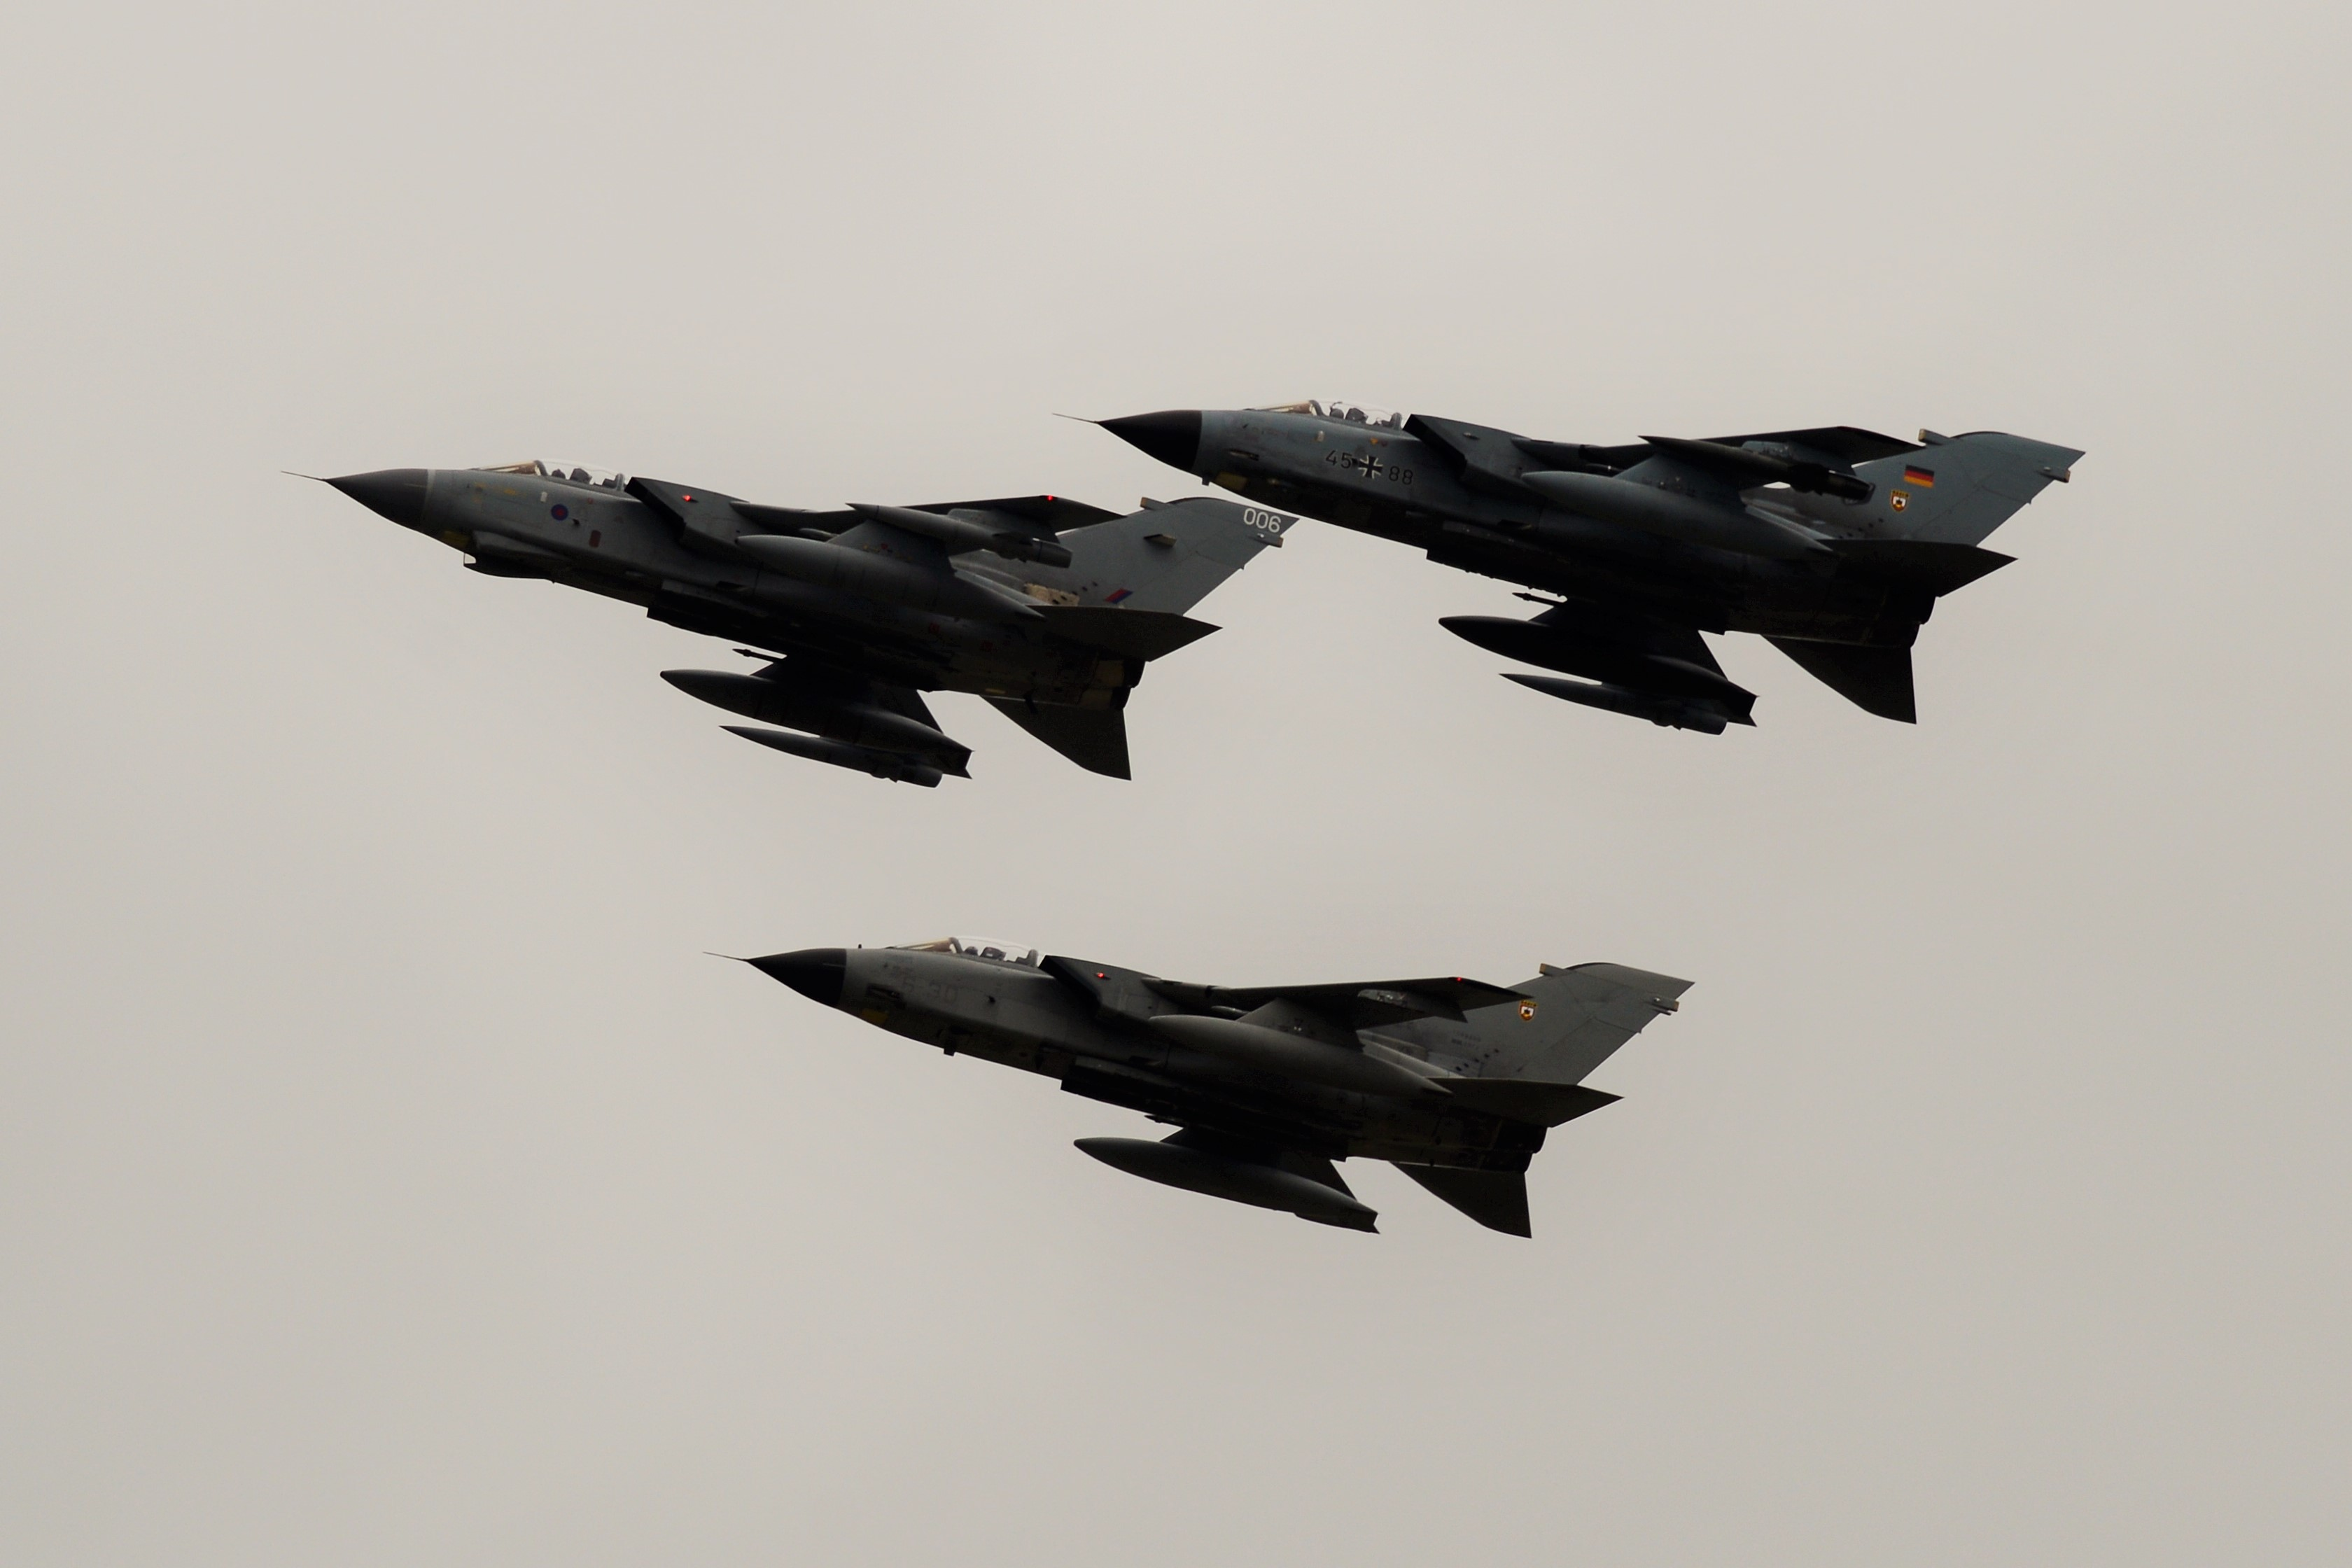Tornado: (1052, 399, 2086, 735), (280, 458, 1300, 789), (702, 936, 1696, 1239)
